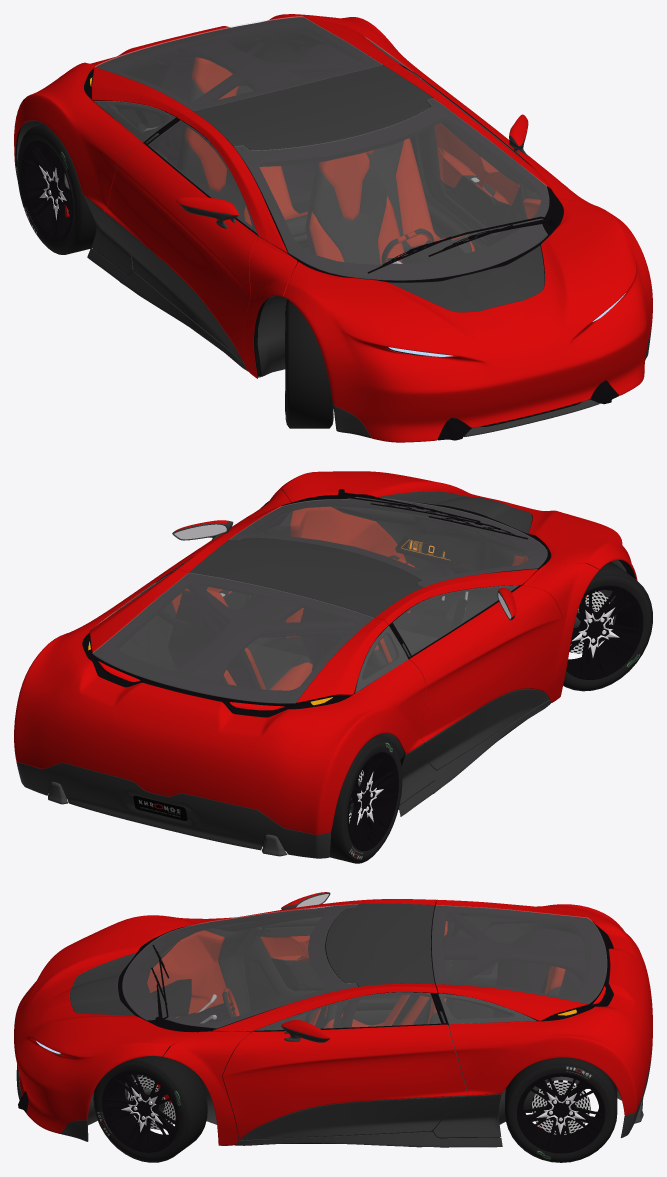
Rendered from car-concept.glb.
The picture shows the model from 3 angles, top to bottom: view 1: azimuth 30°, elevation 25°; view 2: azimuth 150°, elevation 25°; view 3: azimuth 270°, elevation 25°; orthographic projection. The views are drawn at different scales.
Parts seen in each view (by area): view 1: BodyHood, BodyWindshield, BodyRearwindow, BodyDoorRColor1, BodyRearPanelsColor1, BodyRoofPanel, BodyWindshieldGasket, InteriorSeatsColor1, InteriorSeatsColor2, BodyPillars, InteriorPillar, InteriorRearHatch (+21 smaller); view 2: BodyRearPanelsColor1, BodyRearwindow, BodyWindshield, BodyDoorRColor1, BodyPanelsColor2, BodyRoofPanel, BodyHood, InteriorRearHatch, BodyPillars, InteriorPillar, BodyWindshieldGasket, InteriorDashMid (+22 smaller); view 3: BodyRearPanelsColor1, BodyWindshield, BodyDoorLColor1, BodyHood, BodyRearwindow, BodyRoofPanel, BodyPillars, BodyWindshieldGasket, BodyDoorLColor2, BodyPanelsColor2, WheelFrontL, InteriorRearHatch (+25 smaller).
Boxes of the visible parts, <box> form: BodyHood: <box>283,198,652,442</box>; BodyWindshield: <box>234,98,549,280</box>; BodyRearwindow: <box>95,16,382,110</box>; BodyDoorRColor1: <box>104,143,257,362</box>; BodyRearPanelsColor1: <box>14,14,428,210</box>; BodyRoofPanel: <box>193,65,432,150</box>; BodyWindshieldGasket: <box>234,99,563,282</box>; InteriorSeatsColor1: <box>185,57,475,264</box>; InteriorSeatsColor2: <box>180,78,472,264</box>; BodyPillars: <box>176,61,598,378</box>; InteriorPillar: <box>158,37,434,168</box>; InteriorRearHatch: <box>93,17,383,117</box>; BodyRearPanelsColor1: <box>14,569,425,834</box>; BodyRearwindow: <box>92,573,373,703</box>; BodyWindshield: <box>229,497,547,587</box>; BodyDoorRColor1: <box>409,585,562,742</box>; BodyPanelsColor2: <box>16,700,550,858</box>; BodyRoofPanel: <box>189,537,422,617</box>; BodyHood: <box>279,471,637,580</box>; InteriorRearHatch: <box>93,573,386,707</box>; BodyPillars: <box>175,489,599,702</box>; InteriorPillar: <box>174,574,417,682</box>; BodyWindshieldGasket: <box>230,497,550,587</box>; InteriorDashMid: <box>331,503,528,622</box>; BodyRearPanelsColor1: <box>436,899,652,1115</box>; BodyWindshield: <box>122,904,357,1028</box>; BodyDoorLColor1: <box>222,1024,467,1139</box>; BodyHood: <box>14,915,196,1133</box>; BodyRearwindow: <box>432,905,606,1003</box>; BodyRoofPanel: <box>326,903,434,986</box>; BodyPillars: <box>163,899,437,1145</box>; BodyWindshieldGasket: <box>118,905,357,1032</box>; BodyDoorLColor2: <box>240,1096,467,1140</box>; BodyPanelsColor2: <box>16,1050,652,1147</box>; WheelFrontL: <box>93,1054,207,1162</box>; InteriorRearHatch: <box>431,905,606,1020</box>.
Size of the model in its own units: 2.54 by 1.15 by 4.36.
Materials: 23 (6 with a texture image).
